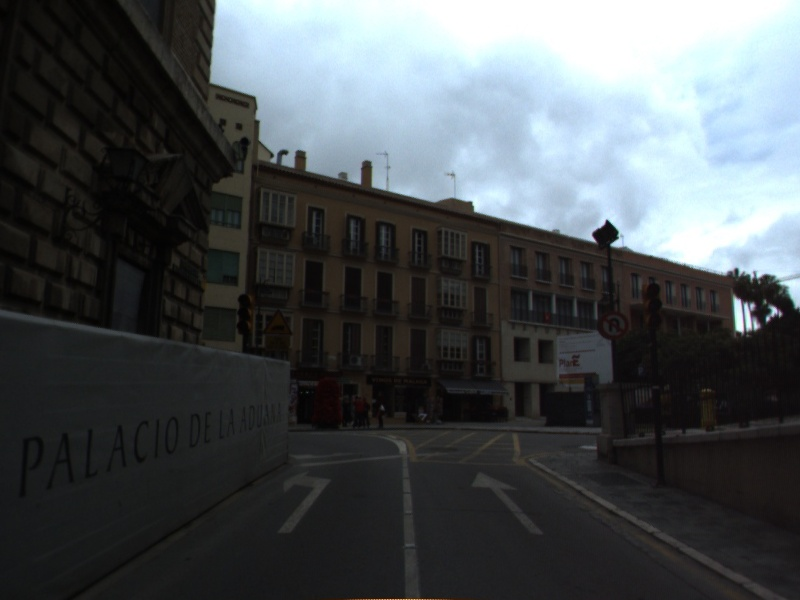LEFT: (274, 469, 334, 535)
STRAIGHT: (468, 468, 546, 537)
